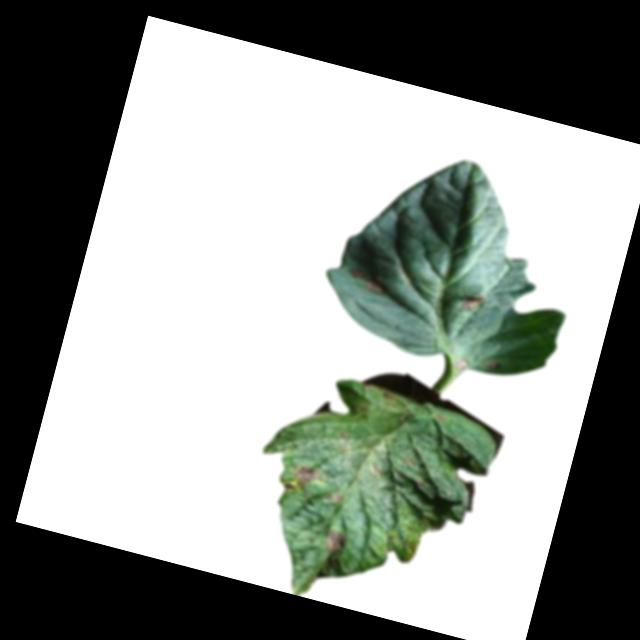Early_blight: (275, 455, 322, 500), (321, 525, 348, 561), (457, 288, 489, 311), (327, 488, 347, 509), (452, 353, 471, 373)
